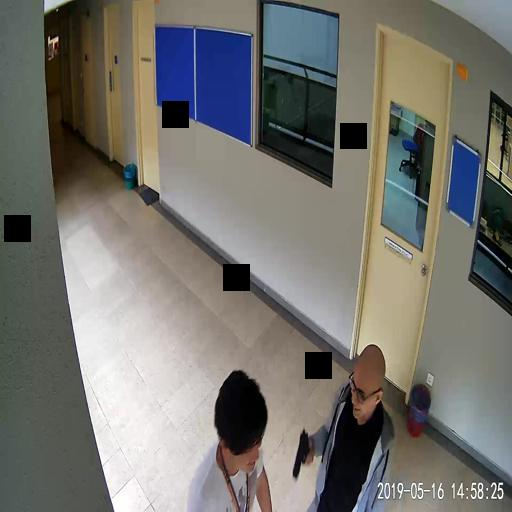Handgun: (291, 428, 311, 478)
